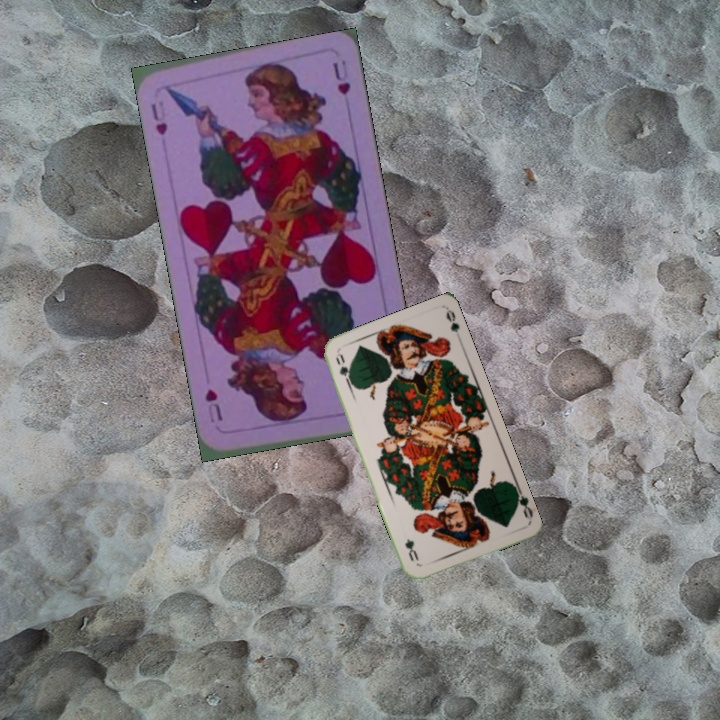GO: (511, 483, 535, 522), (332, 349, 355, 389)
HU: (147, 99, 170, 138)
